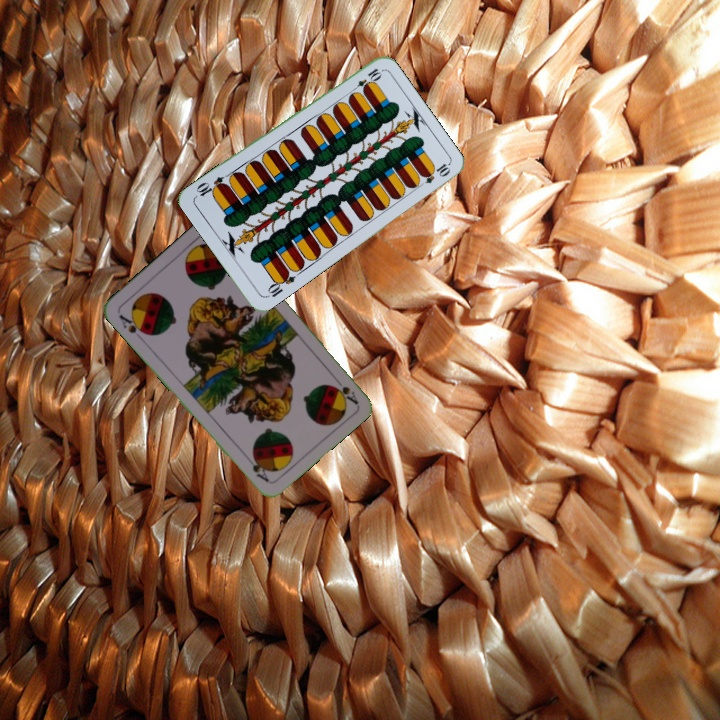E10: (262, 267, 298, 300), (347, 64, 384, 96)
SA: (329, 372, 360, 407), (115, 310, 150, 338)
